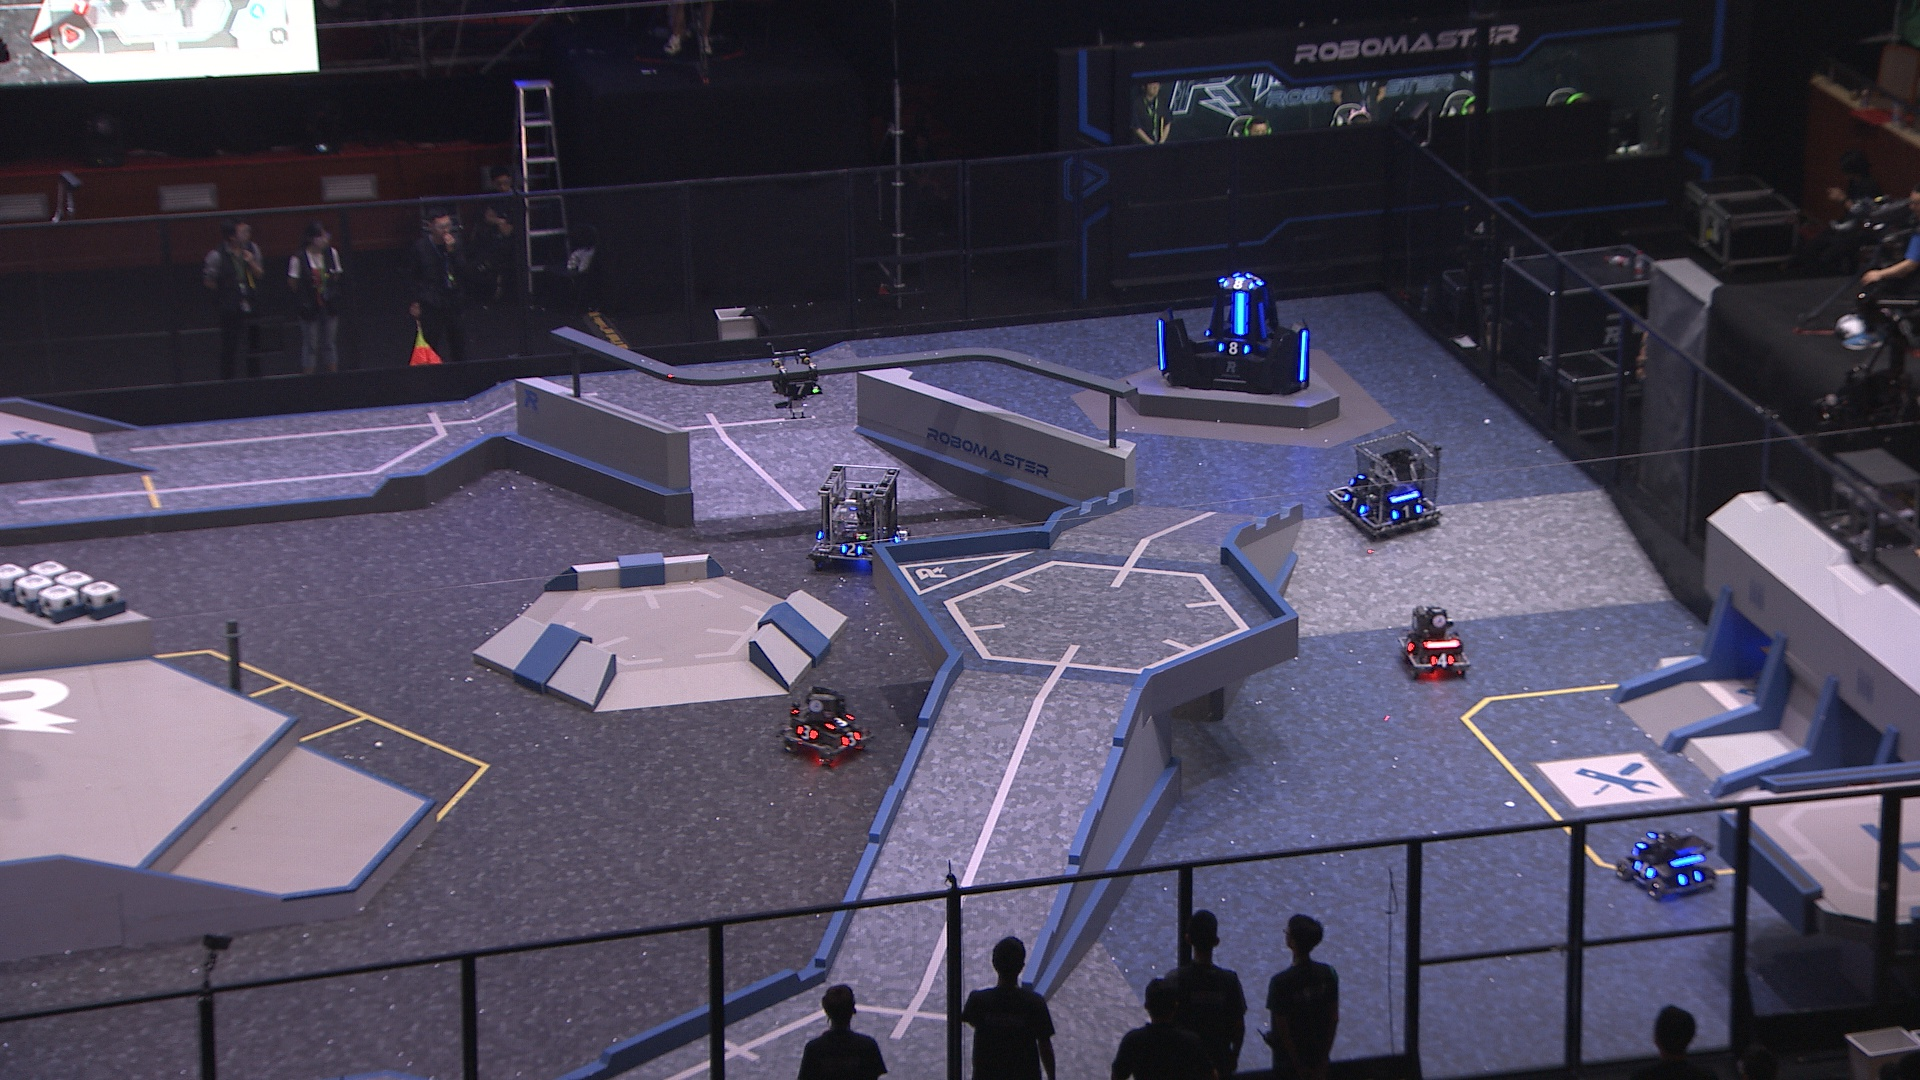armor: (1226, 291, 1253, 338), (1294, 328, 1313, 384), (1154, 316, 1168, 372), (1255, 295, 1271, 342), (1390, 501, 1424, 522), (783, 381, 822, 400), (1340, 493, 1371, 514), (1216, 339, 1249, 357), (1633, 856, 1655, 882), (1667, 868, 1704, 884), (825, 711, 855, 731), (793, 723, 822, 742), (1220, 276, 1254, 291), (839, 541, 865, 559), (1636, 832, 1662, 851), (1429, 651, 1456, 669), (1399, 632, 1416, 655), (840, 731, 861, 749), (1244, 272, 1266, 286), (893, 526, 906, 543)
base: (1153, 264, 1316, 394)
car: (1325, 425, 1443, 541), (804, 458, 911, 567), (1614, 827, 1717, 898), (779, 688, 872, 766), (1393, 603, 1476, 680)
watcher: (764, 342, 825, 418)
